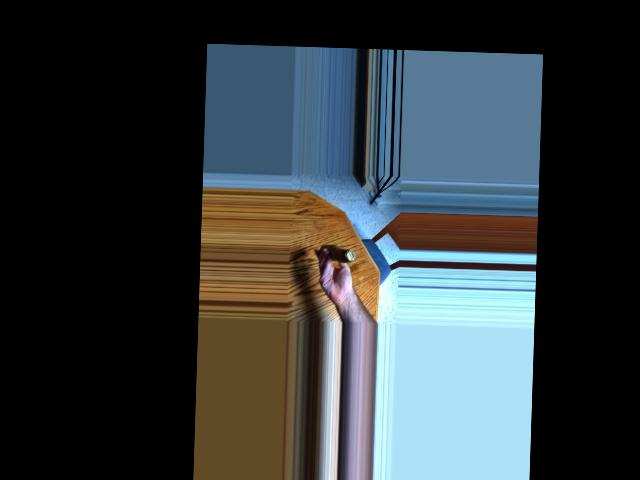sweet_potato: (317, 242, 360, 272)
